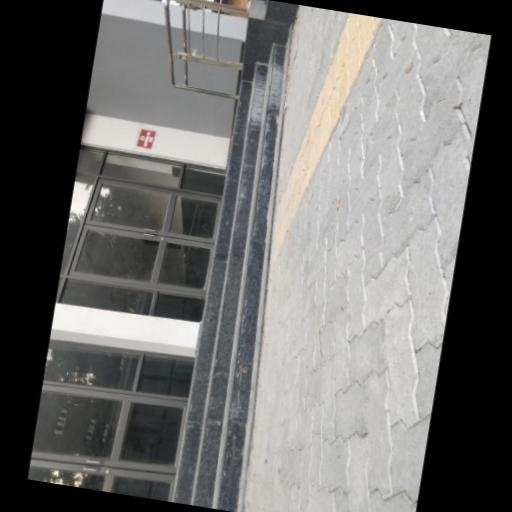stairs: (173, 45, 286, 511)
